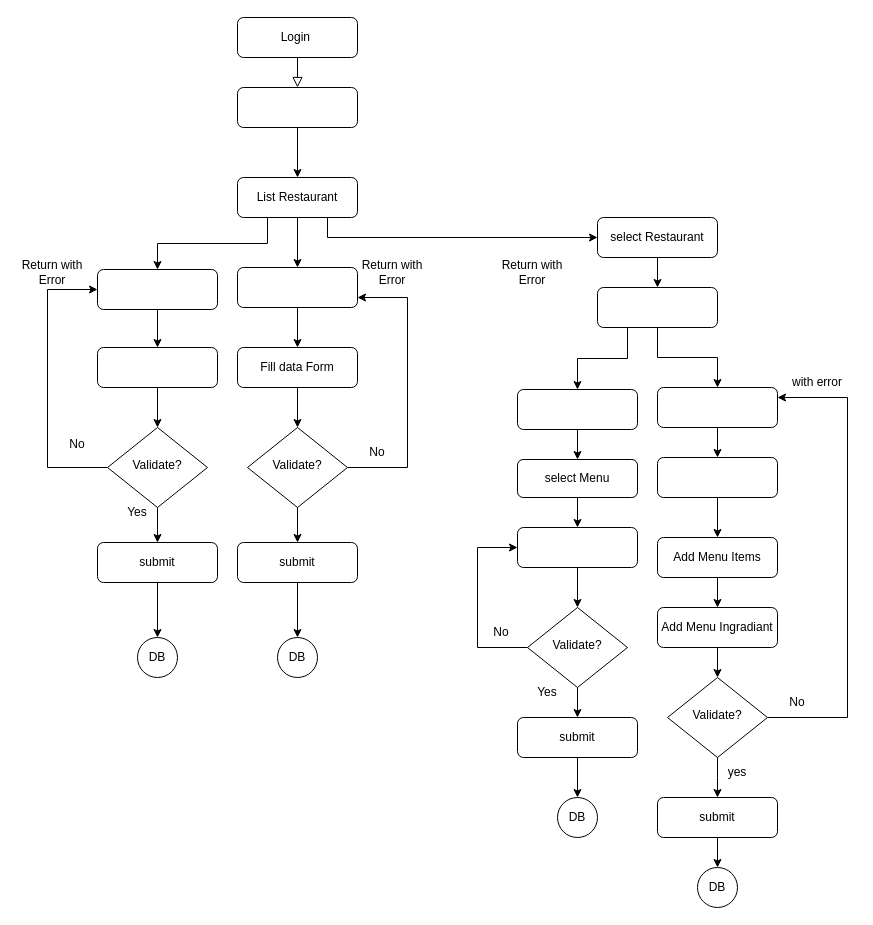
Some shapes in this 873 by 925 pixel diagram are drawn without their labels. Each missing label, with the centre of its shape:
Add Menu: the point at 717,407
Add Menu Categories: the point at 717,477
Add Restaurant: the point at 297,287
Dashboard: the point at 297,107
edit data Form: the point at 157,367
Edit Menu: the point at 577,547
Edit Restaurant: the point at 157,289
list Menu: the point at 577,409
select restaurant category: the point at 657,307
